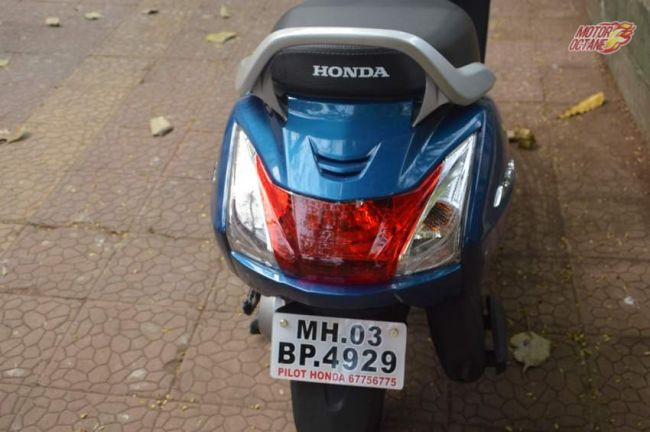doublelinenumberplate: (270, 310, 407, 390)
